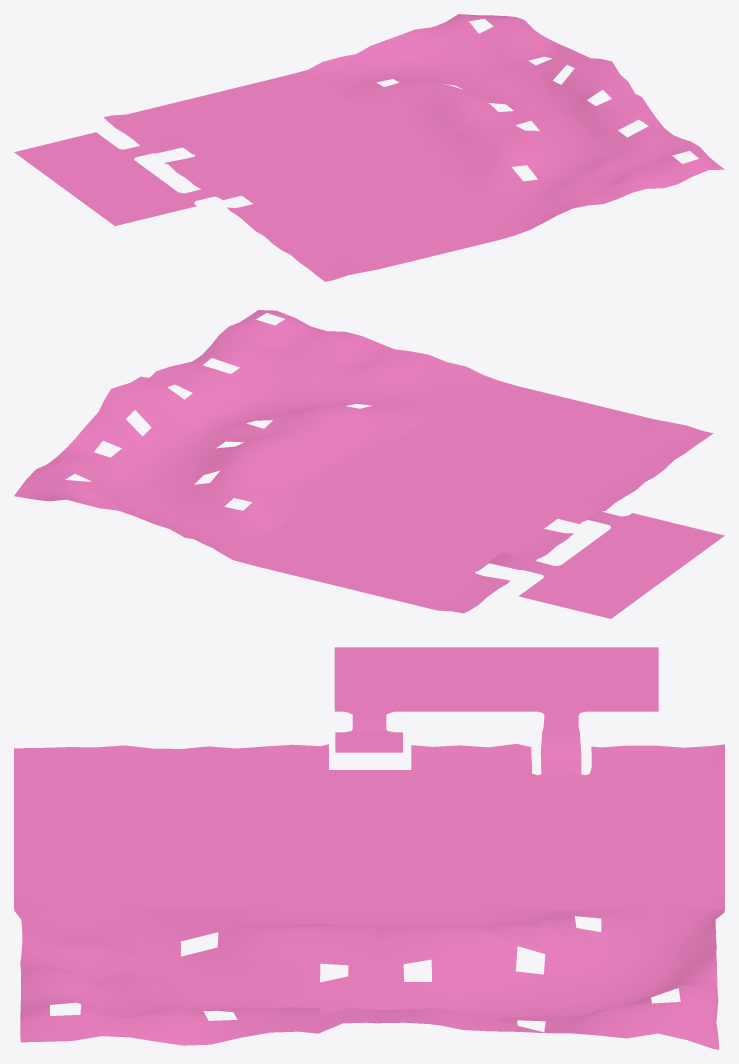
File: navmesh.glb
3 views of the same model, one above another, from view 1: azimuth 30°, elevation 25°; view 2: azimuth 150°, elevation 25°; view 3: azimuth 270°, elevation 25° (orthographic). The views are drawn at different scales.
Parts seen in each view (by area): view 1: NewNavMesh; view 2: NewNavMesh; view 3: NewNavMesh.
Part boxes in pixels (x1=…): NewNavMesh: x1=14, y1=14, x2=724, y2=281; NewNavMesh: x1=14, y1=310, x2=724, y2=618; NewNavMesh: x1=14, y1=647, x2=724, y2=1049.
Size of the model in its own units: 109 by 6.04 by 80.03.
